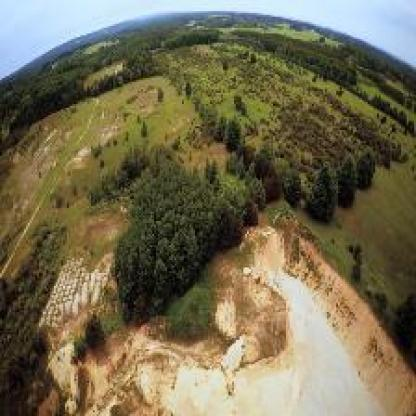other: (123, 258, 405, 407)
